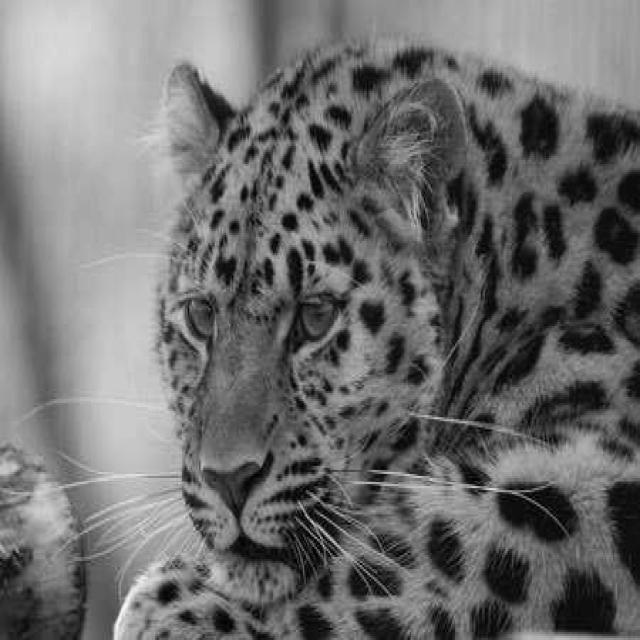Leopard: (139, 102, 562, 593)
